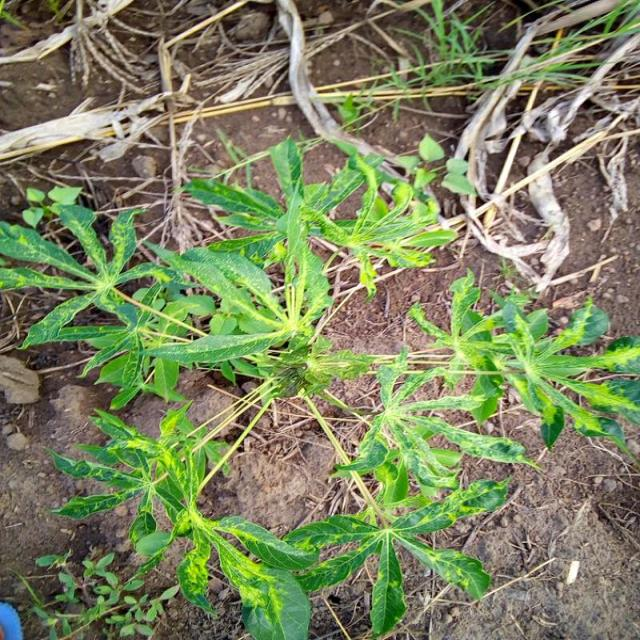cassava leaf: (1, 131, 638, 637)
